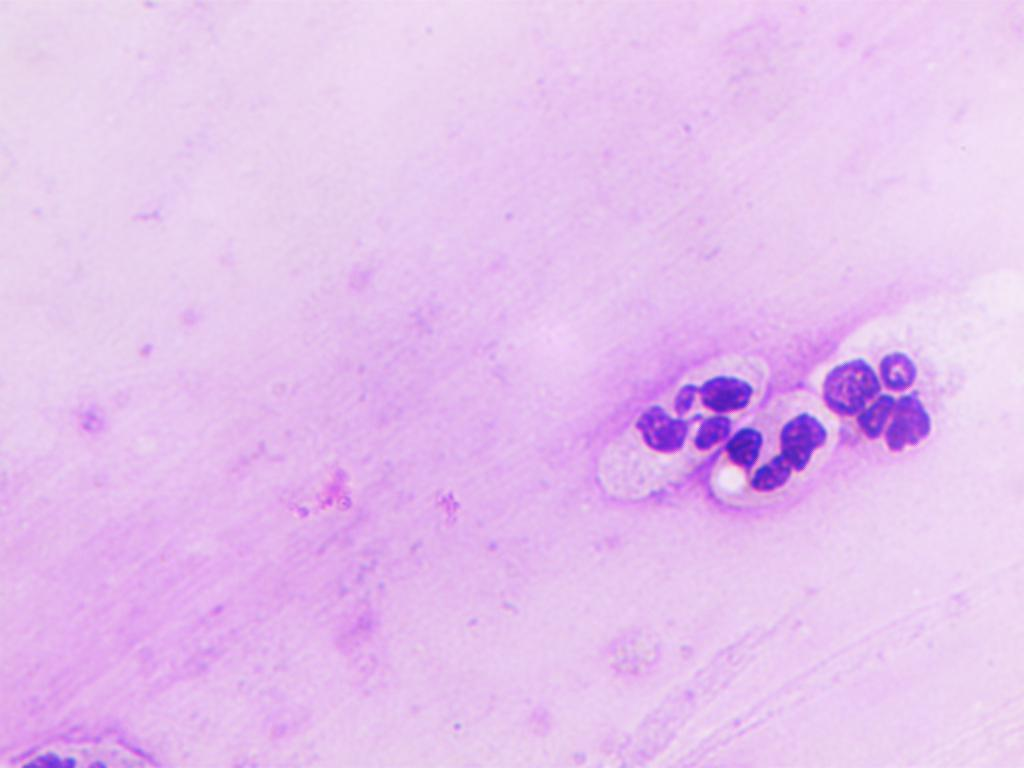neutrophil: (568, 348, 773, 506), (810, 300, 956, 458), (712, 403, 842, 516)
